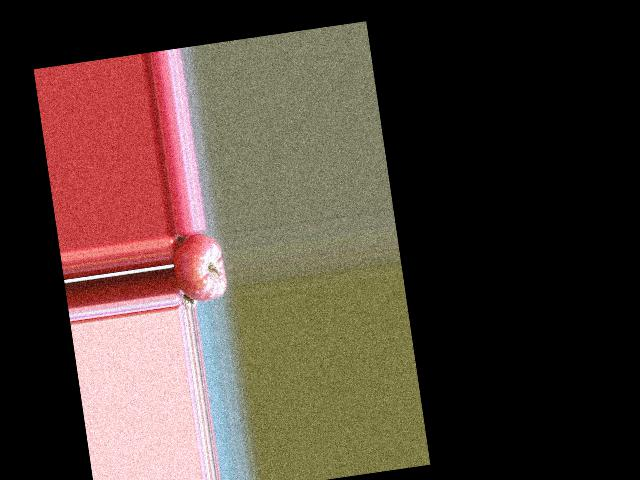tomato: (169, 229, 228, 304)
